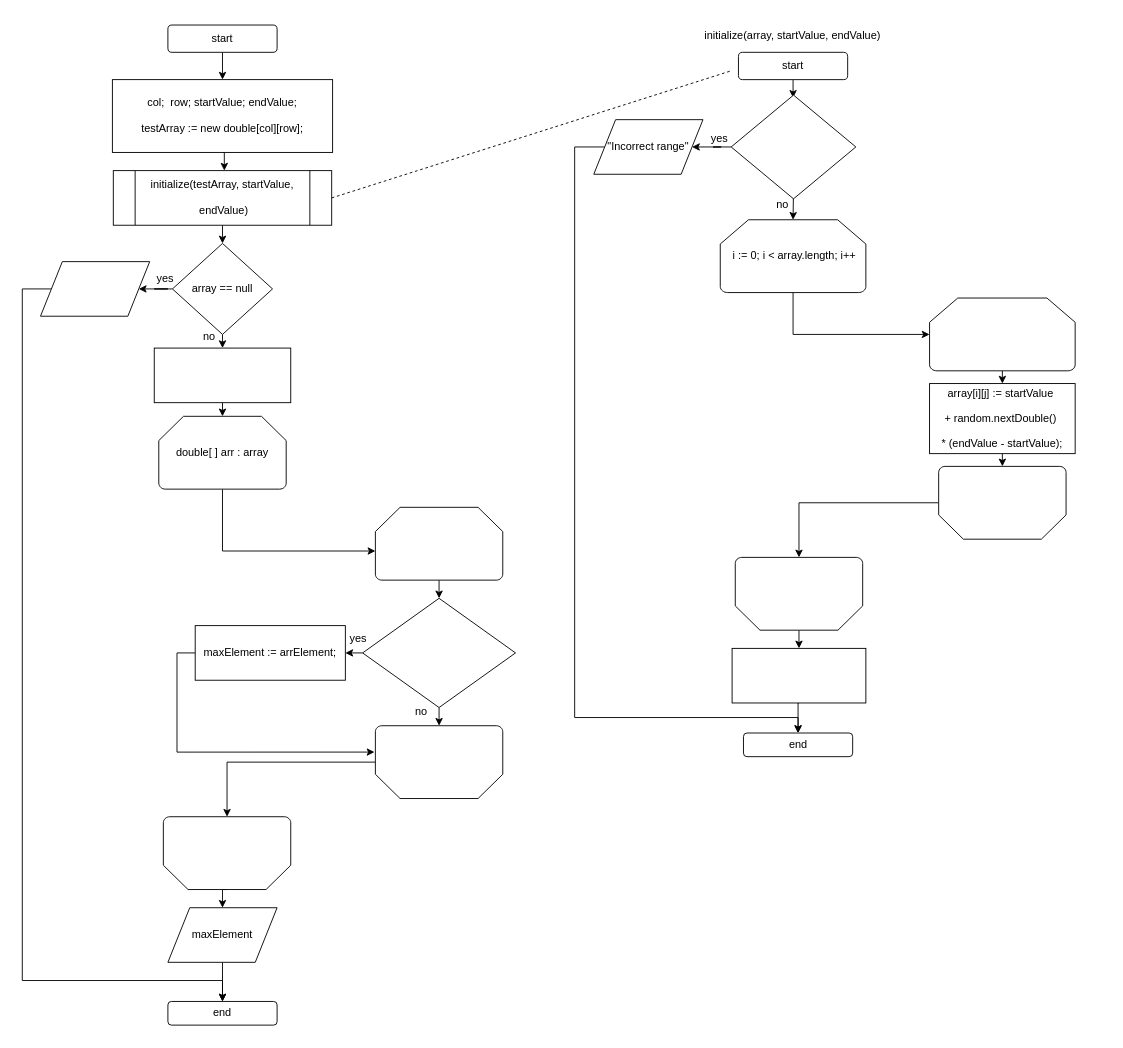
The diagram is 1123 pixels wide and 1048 high, and some of its shapes have lost their labels. The box of each missing label's shape, as (x1, y1, x2, y2) in pixels:
"No array": (40, 261, 150, 316)
arrElement > maxElement: (362, 597, 516, 708)
double arrElement : arr: (374, 506, 503, 580)
j := 0 ; j < array[i]. length ; j++: (929, 297, 1075, 371)
maxElement := array[ 0 ][ 0 ] ;: (153, 347, 291, 403)
return array ;: (731, 647, 866, 703)
startValue >= endValue: (730, 94, 856, 199)
